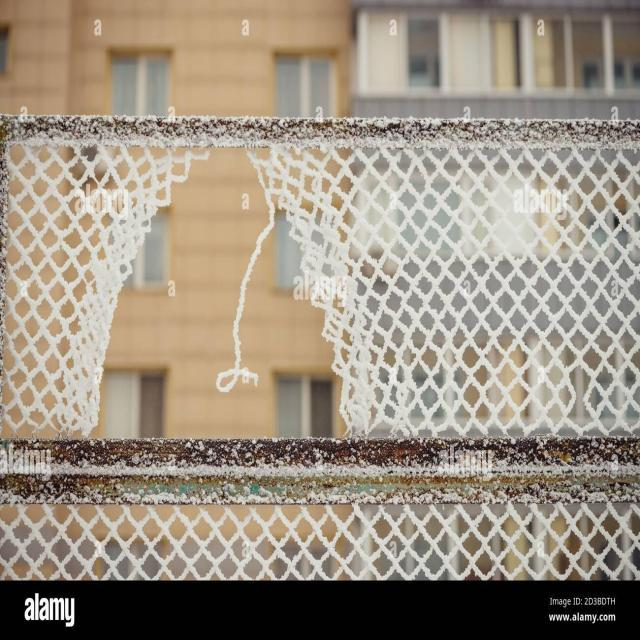fence line: (101, 164, 360, 437)
